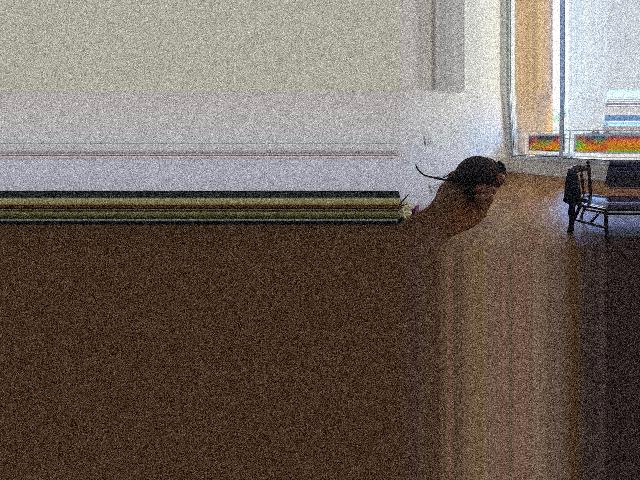beet: (416, 156, 507, 186)
